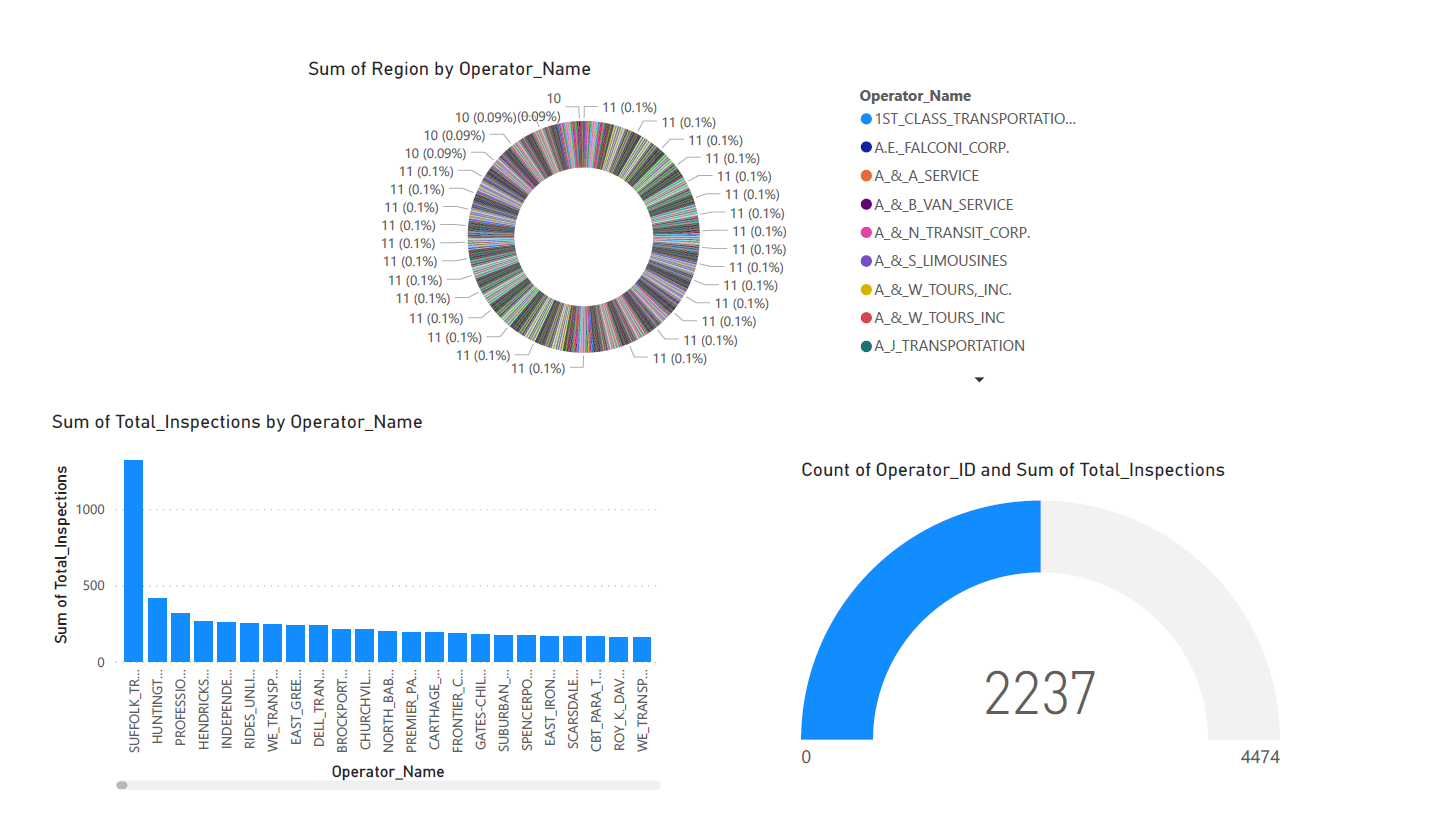

The dashboard page shown, as its layout file describes it:
{"tool":"powerbi","page":{"name":"Report","canvas":[1280,720],"ordinal":0},"visuals":[{"type":"clusteredColumnChart","fields":{"Y":["Sum(Inspections_Fact.Total_Inspections)"],"Category":["Inspections_Fact.Operator_Name"]},"box":[25,346.7,551.7,343.3],"z":2000},{"type":"donutChart","fields":{"Category":["Location_Dim.Operator_Name"],"Y":["Sum(Operator_Dim.Region)"]},"box":[253.3,33.3,711.7,300],"z":3001},{"type":"gauge","fields":{"Y":["CountNonNull(Inspections_Fact.Operator_ID)"]},"box":[691.7,390,436.7,300],"z":3002}]}

Visuals, with their boxes in screenshot pixels (x1, y1, x2, y2), scaled from the page's 1280x720 canvas onto the 1450x822 screenshot:
clusteredColumnChart - Sum(Inspections_Fact.Total_Inspections) x Inspections_Fact.Operator_Name: x1=28 y1=396 x2=653 y2=788
donutChart - Location_Dim.Operator_Name x Sum(Operator_Dim.Region): x1=287 y1=38 x2=1093 y2=381
gauge - CountNonNull(Inspections_Fact.Operator_ID): x1=784 y1=445 x2=1278 y2=788
